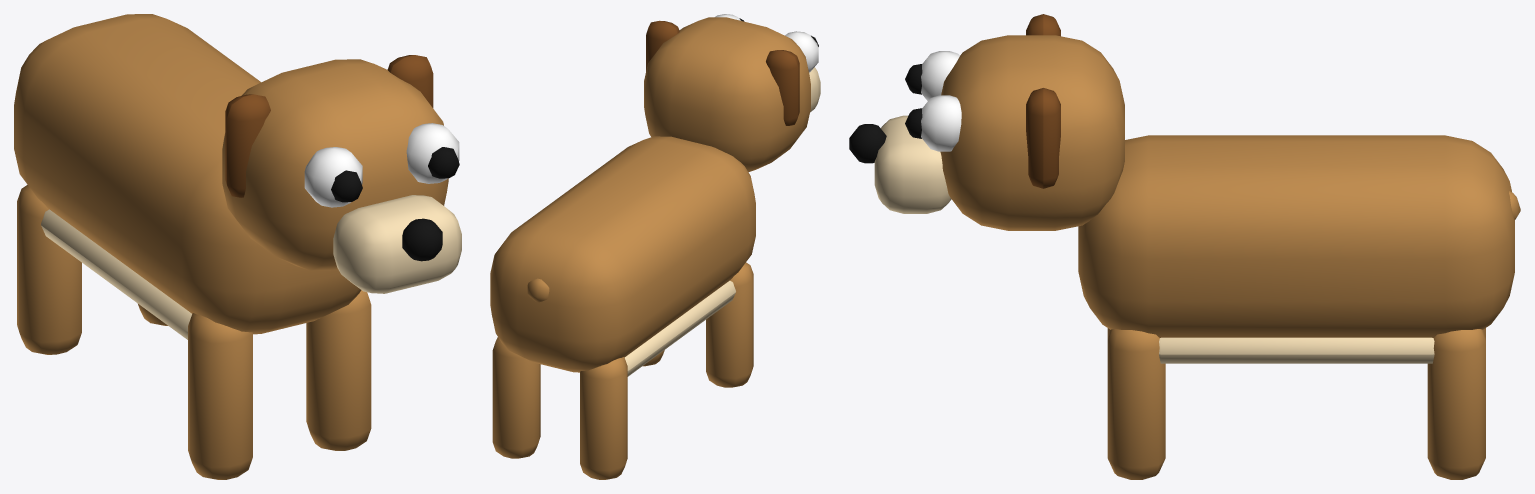
Rendered from dog.glb.
3 renders of one model, left to right at view 1: azimuth 30°, elevation 25°; view 2: azimuth 150°, elevation 25°; view 3: azimuth 270°, elevation 25°, orthographic. The views are drawn at different scales.
Visible parts, largest first — view 1: Body, Head, LegFL, LegFR, Snout, LegBL, Belly, Ear-1, EyeW-1, EyeW1, NoseTip, Ear1 (+2 smaller); view 2: Body, Head, LegBL, LegBR, LegFL, Belly, Ear-1, Ear1, EyeW-1, Tail, Snout; view 3: Body, Head, LegFR, LegBR, Belly, Snout, Ear1, EyeW1, EyeW-1, NoseTip.
Part boxes in pixels (x1,y1,x2,y2): Body: [14, 14, 361, 334]; Head: [222, 59, 448, 270]; LegFL: [188, 313, 252, 479]; LegFR: [306, 290, 371, 450]; Snout: [333, 195, 461, 293]; LegBL: [17, 185, 81, 354]; Belly: [41, 209, 191, 339]; Ear-1: [225, 94, 270, 197]; EyeW-1: [304, 147, 362, 207]; EyeW1: [406, 123, 459, 183]; NoseTip: [402, 218, 442, 261]; Ear1: [387, 55, 433, 107]; Body: [490, 136, 755, 372]; Head: [644, 17, 810, 172]; LegBL: [580, 357, 627, 479]; LegBR: [492, 337, 540, 458]; LegFL: [706, 262, 753, 387]; Belly: [624, 280, 735, 376]; Ear-1: [766, 50, 799, 125]; Ear1: [646, 20, 679, 71]; EyeW-1: [785, 31, 818, 72]; Tail: [527, 278, 549, 302]; Snout: [809, 67, 820, 112]; Body: [1078, 135, 1514, 337]; Head: [940, 35, 1124, 230]; LegFR: [1107, 329, 1165, 479]; LegBR: [1427, 329, 1485, 479]; Belly: [1159, 337, 1434, 363]; Snout: [874, 115, 951, 213]; Ear1: [1026, 88, 1060, 188]; EyeW1: [921, 95, 961, 151]; EyeW-1: [921, 51, 959, 100]; NoseTip: [849, 124, 886, 163].
Size of the model in its own units: 0.38 by 0.75 by 1.15.
